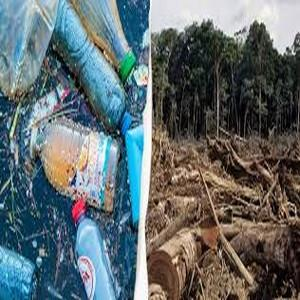Plastic: (28, 118, 120, 209)
